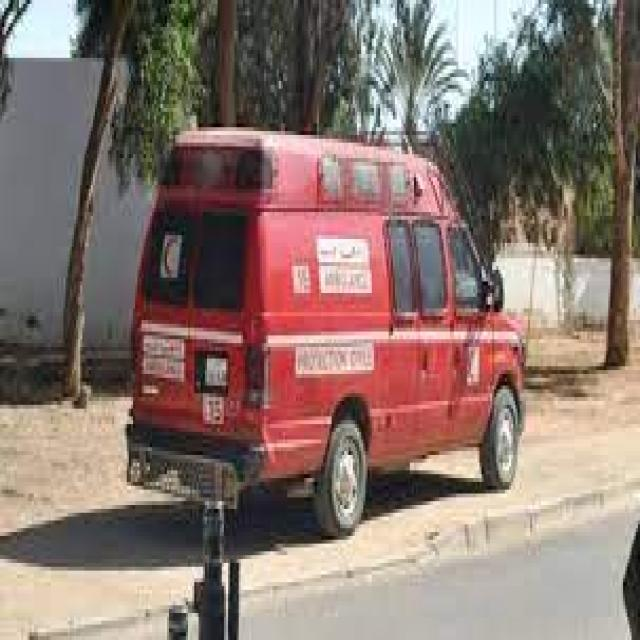ambulance: (131, 126, 524, 540)
